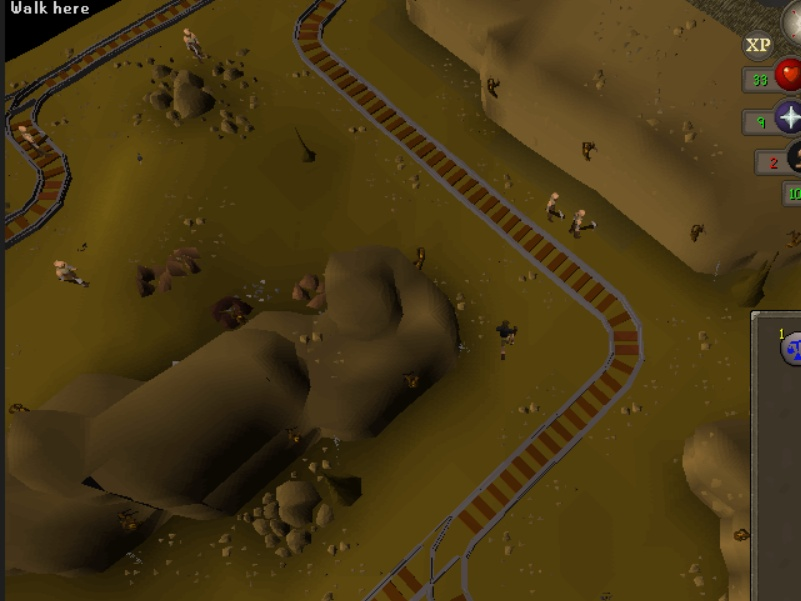copper: (131, 260, 172, 299), (162, 239, 203, 278), (288, 269, 329, 308)
iron: (203, 292, 261, 330)
